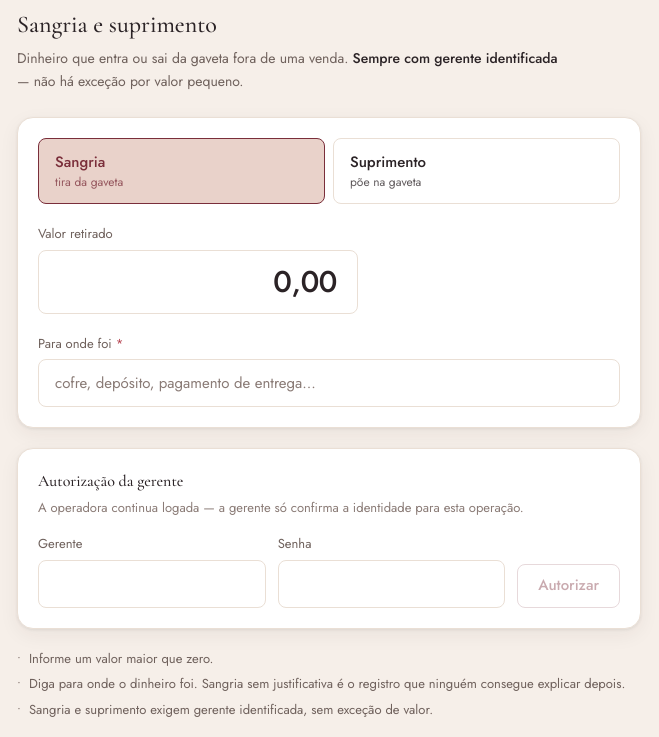
Test: TelaMovimentoCaixa — o saldo só aparece para a gerente › depois da autorização, mostra o que entra, o que sai e o que fica
Type "bia" into the field labelled "Gerente" at x=152, y=584, box [38,560,266,608]
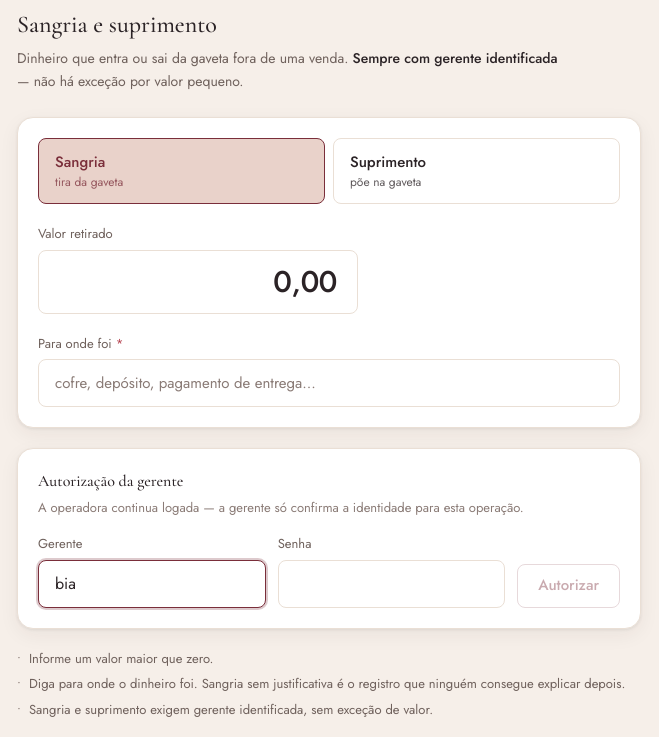
Type "gerente123" into the password field labelled "Senha" at x=392, y=584, box [278,560,505,608]
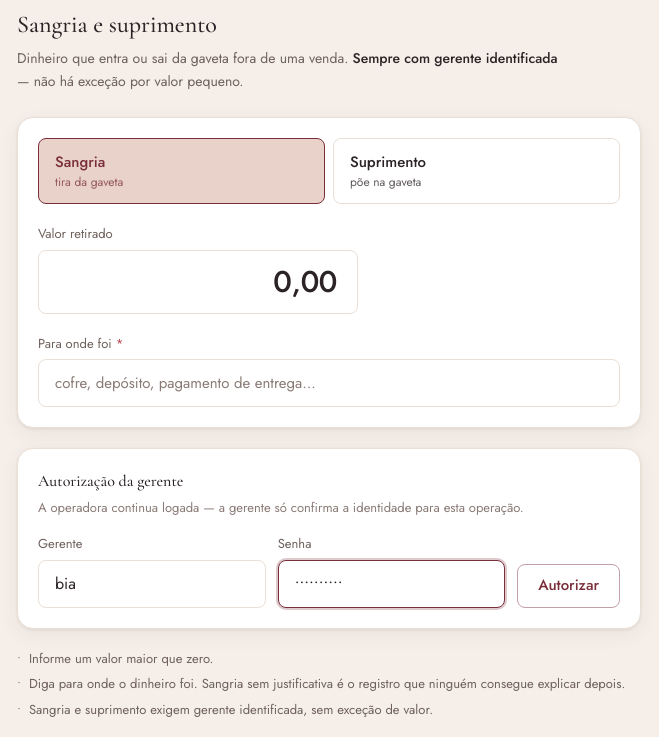
Click the button "Autorizar" at x=569, y=586, box [517,564,620,608]
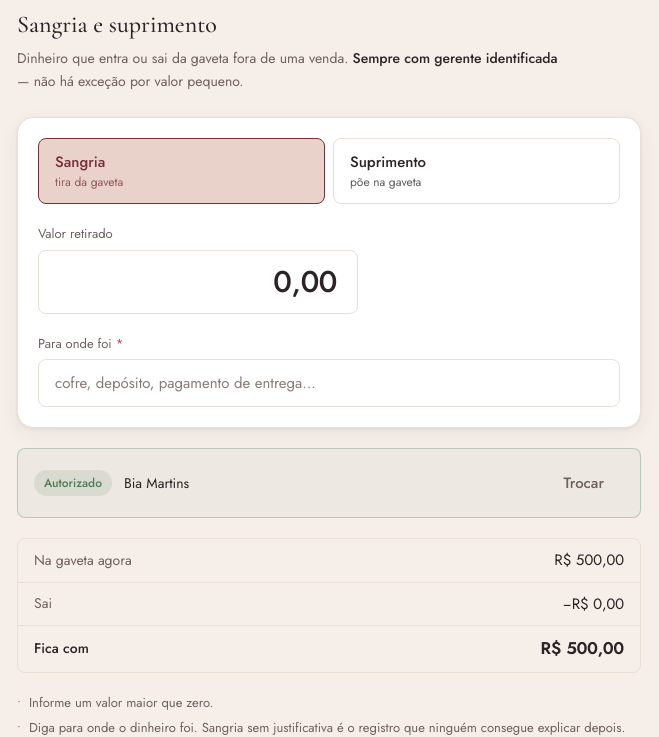
Now the text "Autorizado" is shown, box [34,470,112,496]
Click the field labelled "Valor retirado" at x=198, y=282, box [38,250,358,314]
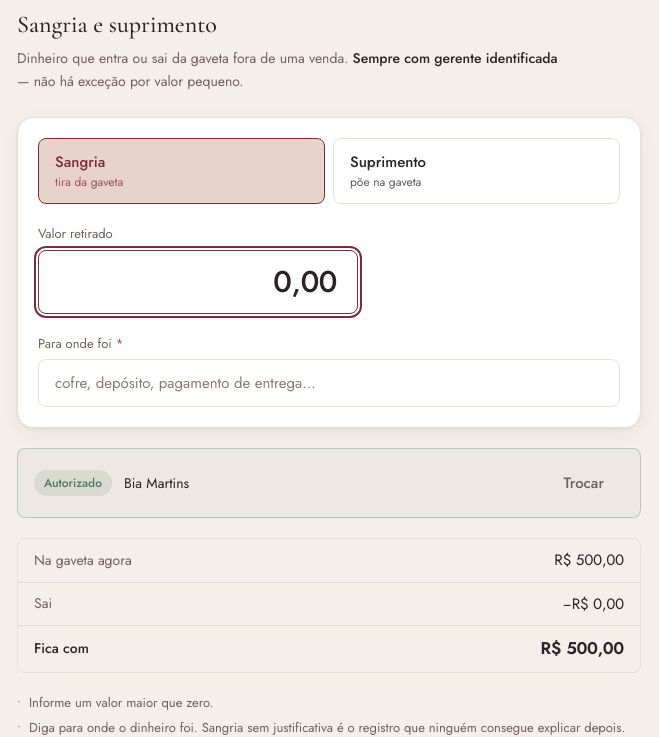
Type keys "15000"
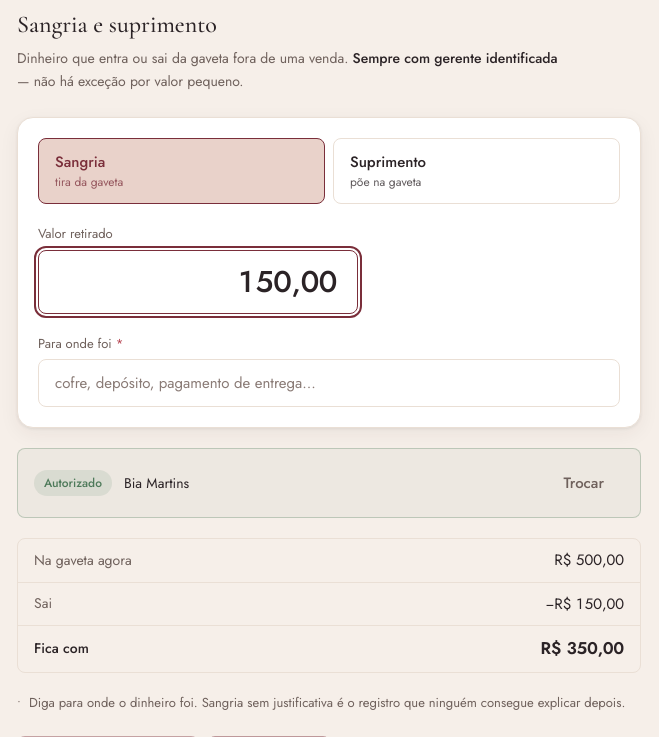
Now the element with test id "efeito-no-caixa" shows "R$ 500,00", box [554,549,624,571]
Now the element with test id "efeito-no-caixa" shows "R$ 150,00", box [554,592,624,614]
Now the element with test id "efeito-no-caixa" shows "R$ 350,00", box [540,636,624,660]
